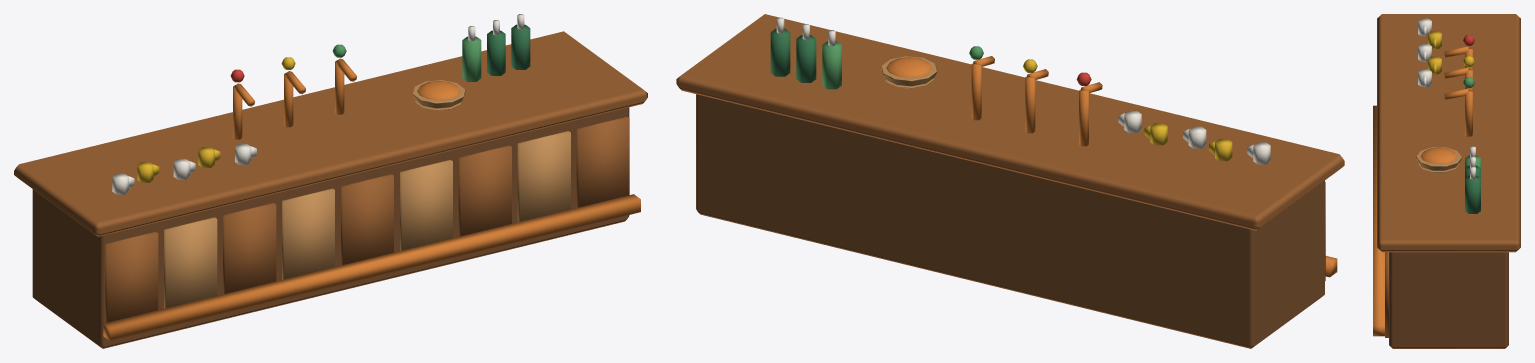
File: bar_counter.glb
3 views of the same model, side by side, from view 1: azimuth 30°, elevation 25°; view 2: azimuth 150°, elevation 25°; view 3: azimuth 270°, elevation 25° (orthographic). The views are drawn at different scales.
Parts seen in each view (by area): view 1: bar_counter; view 2: bar_counter; view 3: bar_counter.
Boxes of the visible parts, box(x1,y1,x2,y2) form: bar_counter: box(14, 14, 647, 348); bar_counter: box(676, 14, 1344, 348); bar_counter: box(1373, 14, 1520, 348).
Size of the model in its own units: 2.72 by 0.95 by 0.74.
